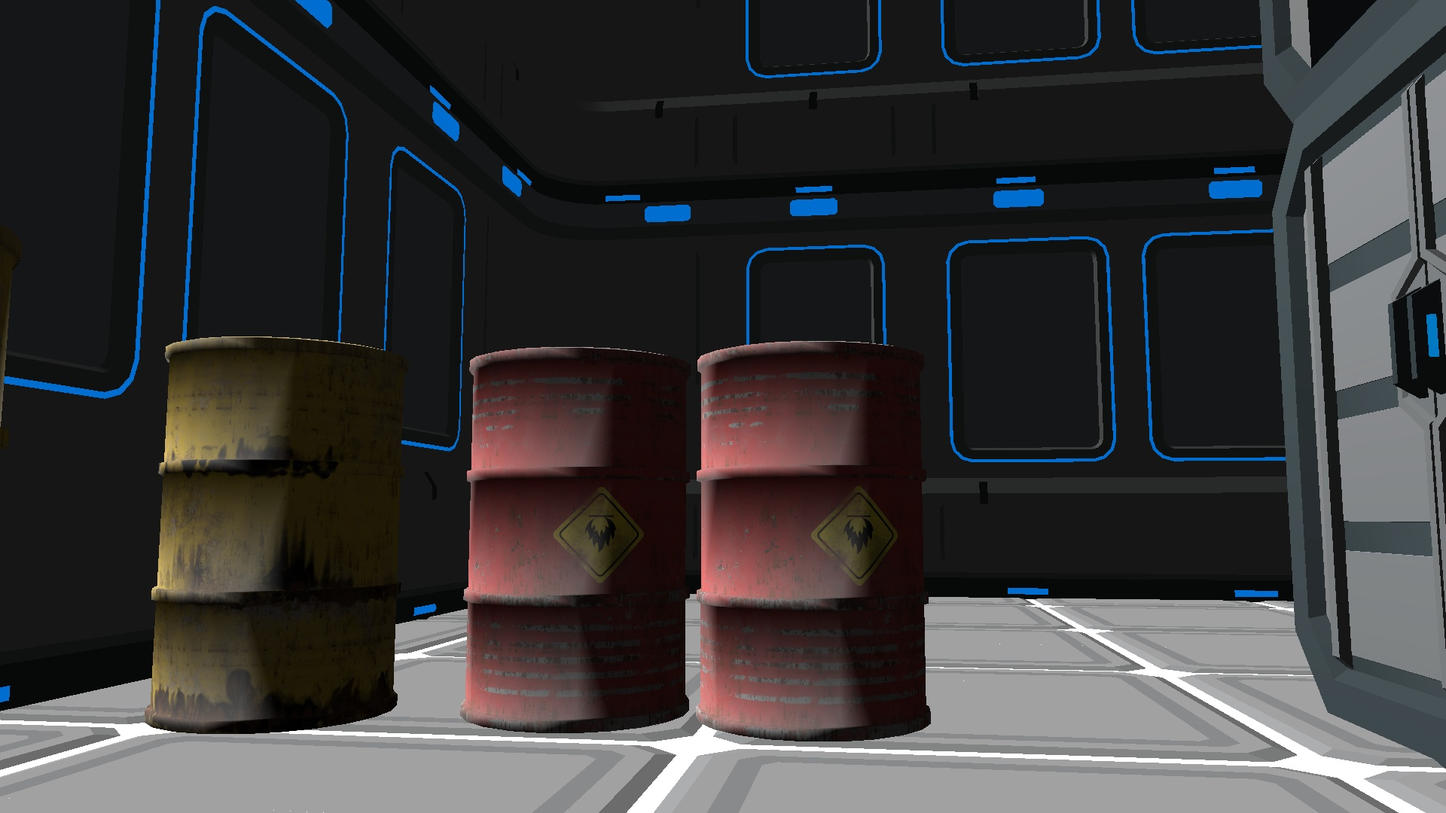toxic barrel: (144, 337, 398, 734), (696, 341, 930, 740), (459, 348, 690, 733)
